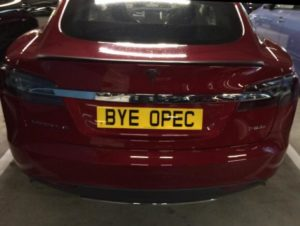license plate: (94, 105, 204, 131)
